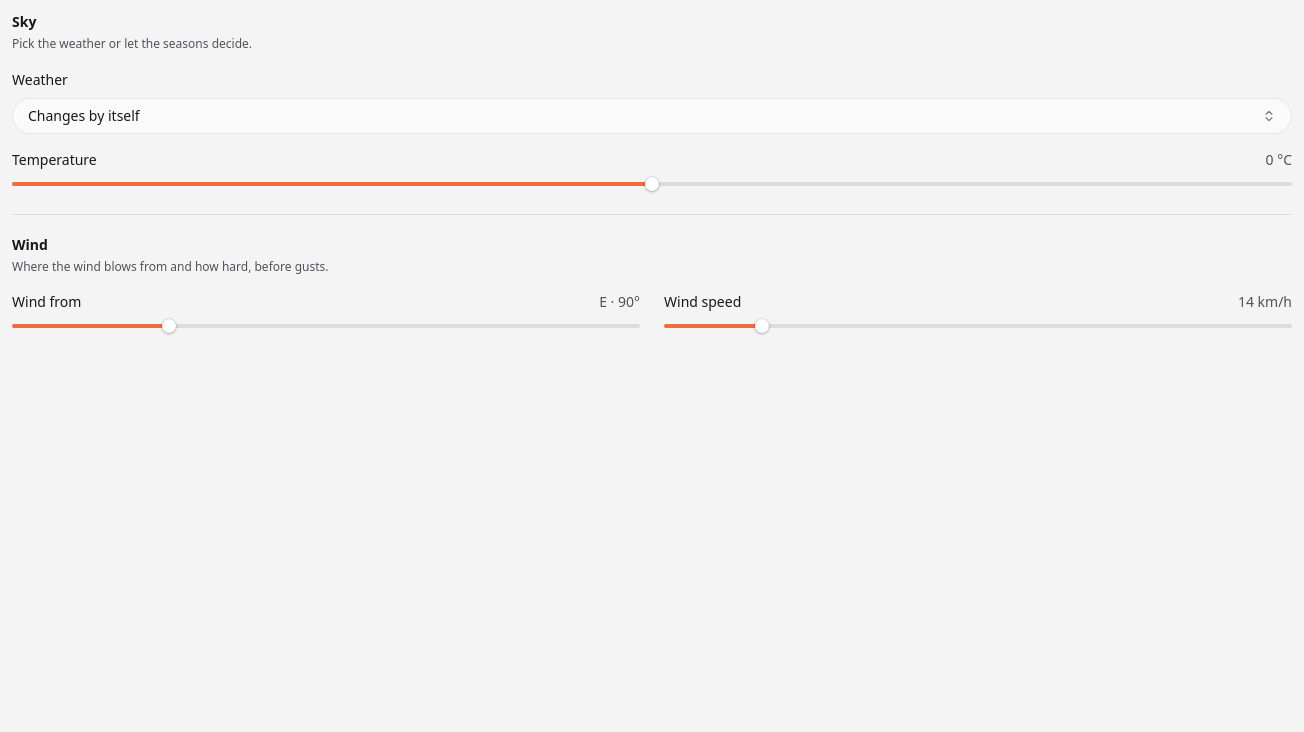
weather section › offers every kind of weather
The width and height of the screenshot is (1304, 732).
Click the dropdown named "Weather": (84, 115) [12, 98, 1292, 134]
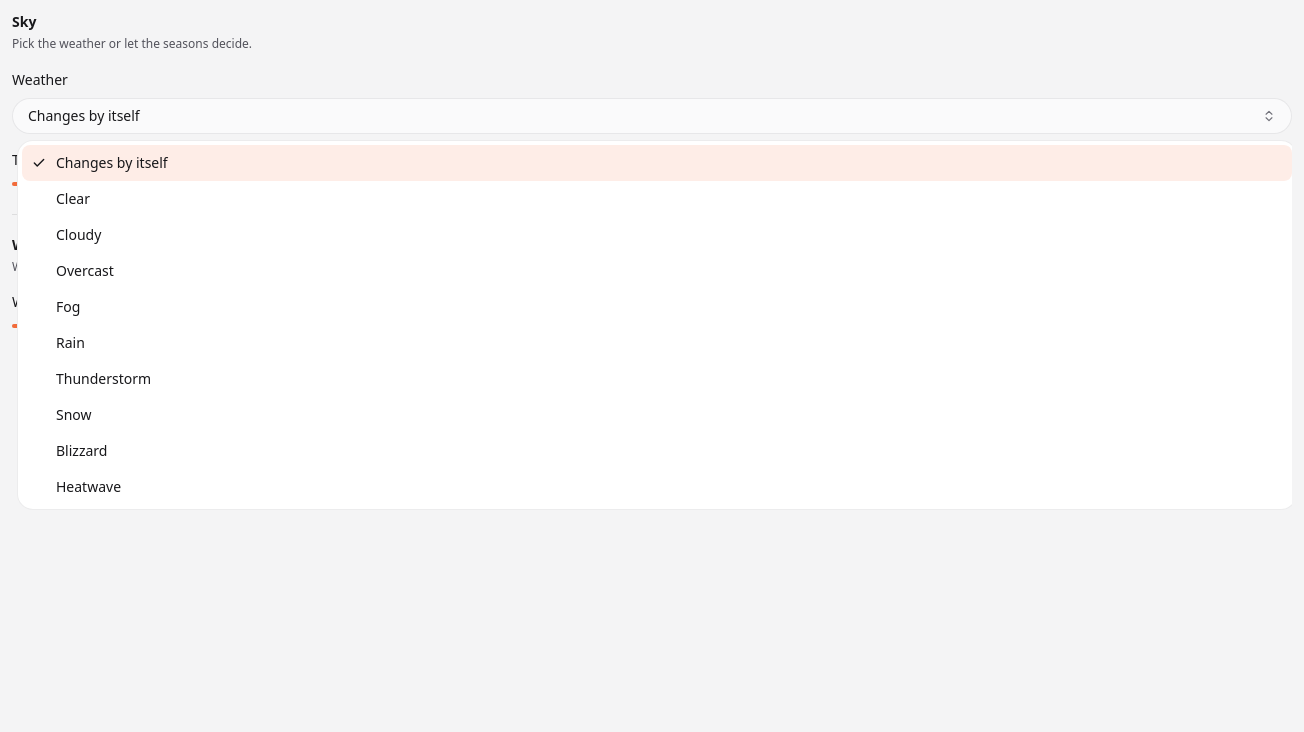
Expected: the option "Changes by itself" is shown, [22, 145, 1292, 181]
Expected: the option "Clear" is shown, [56, 189, 90, 208]
Expected: the option "Cloudy" is shown, [56, 225, 101, 244]
